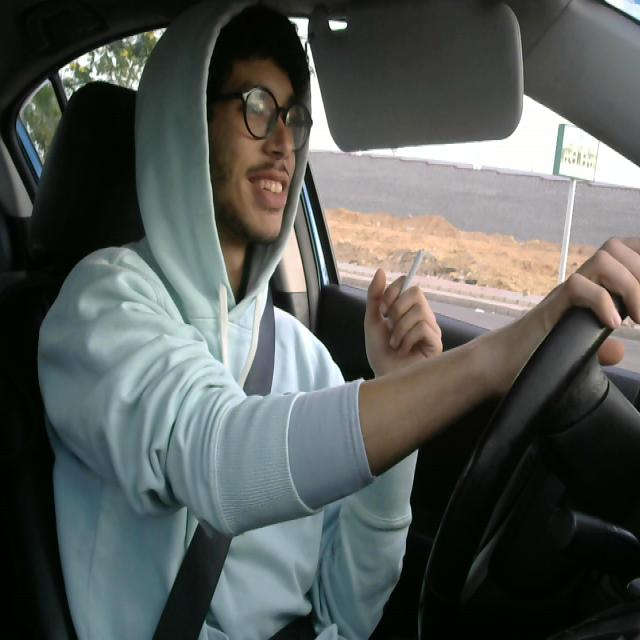smoking: (389, 244, 426, 320)
